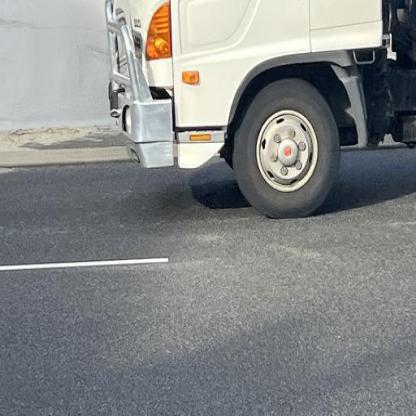Tire: (233, 80, 340, 218)
